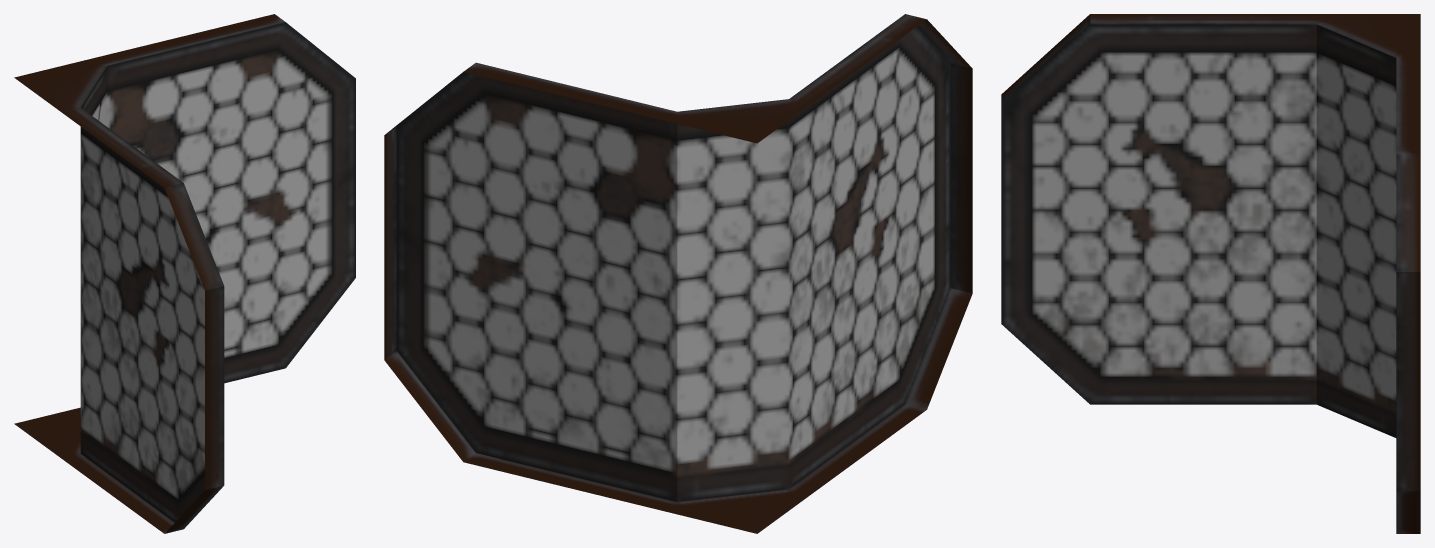
The model's file is g_panic_test36.fbx.
3 renders of one model, left to right at view 1: azimuth 30°, elevation 25°; view 2: azimuth 150°, elevation 25°; view 3: azimuth 270°, elevation 25°, orthographic. The views are drawn at different scales.
Parts seen in each view (by area): view 1: Cube.100; view 2: Cube.100; view 3: Cube.100.
Boxes of the visible parts, left/top/right/bottom form: Cube.100: left=14, top=14, right=355, bottom=533; Cube.100: left=384, top=14, right=972, bottom=533; Cube.100: left=1001, top=14, right=1420, bottom=533.
Bounding box in the file's own units: 200 × 200 × 200.
